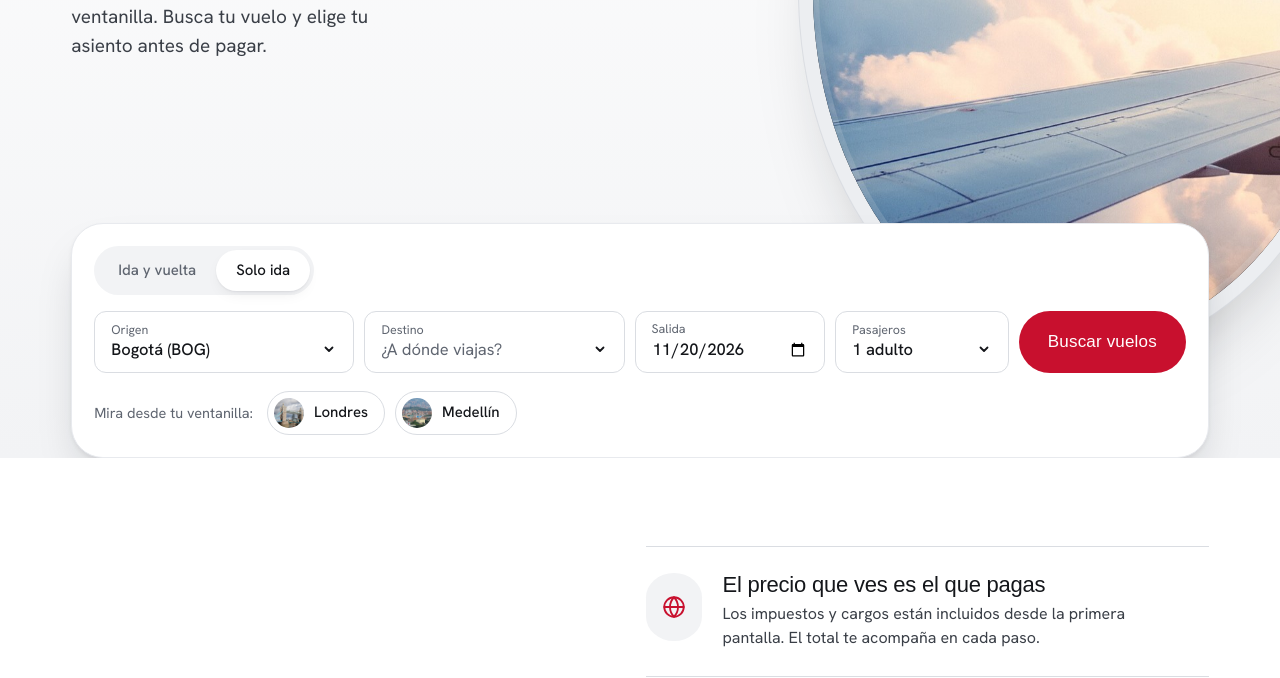
Test: Home: autocompletar de origen y destino › sin destino elegido, buscar marca el campo y no navega
This screenshot has width=1280, height=678.
(page scrolled)
Expected: the dropdown labelled "Origen" is shown, [111,337,337,361]
What coordinates should you click on to do the following:
click the button "Buscar vuelos"
I would click on:
 (1102, 342)
Its box is [1019,311,1186,373].
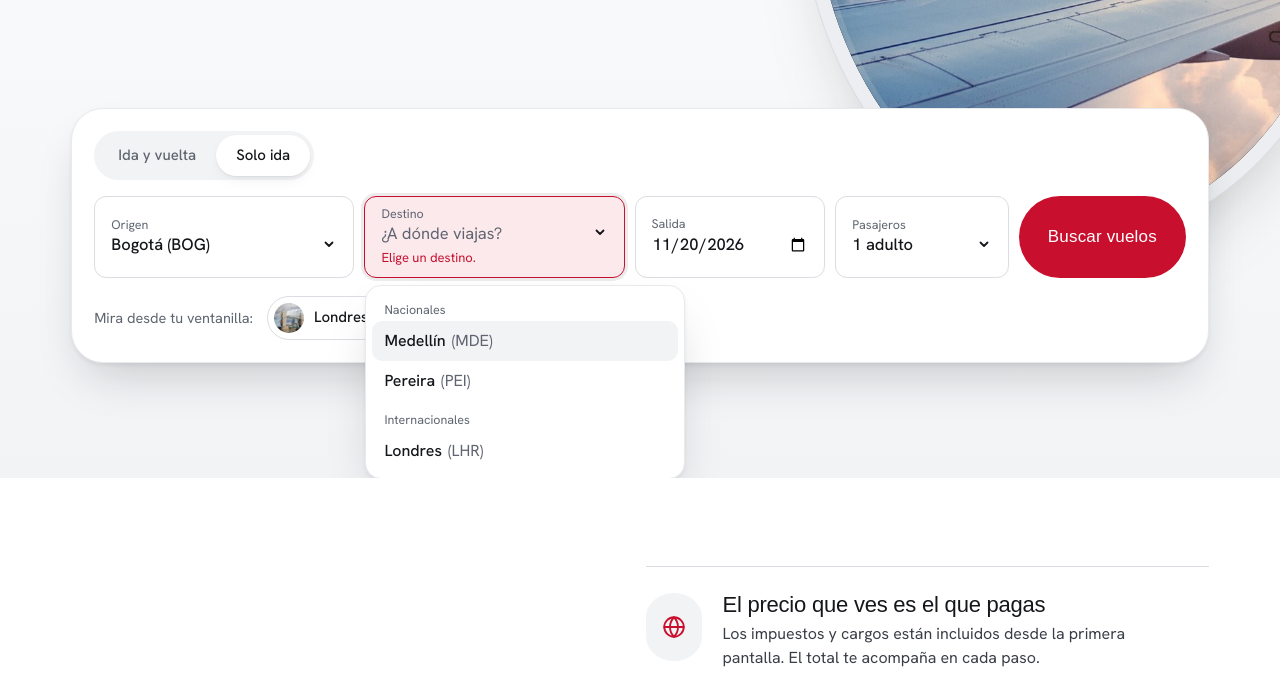
Result: the text "Elige un destino." is shown at [381,249,476,266]
